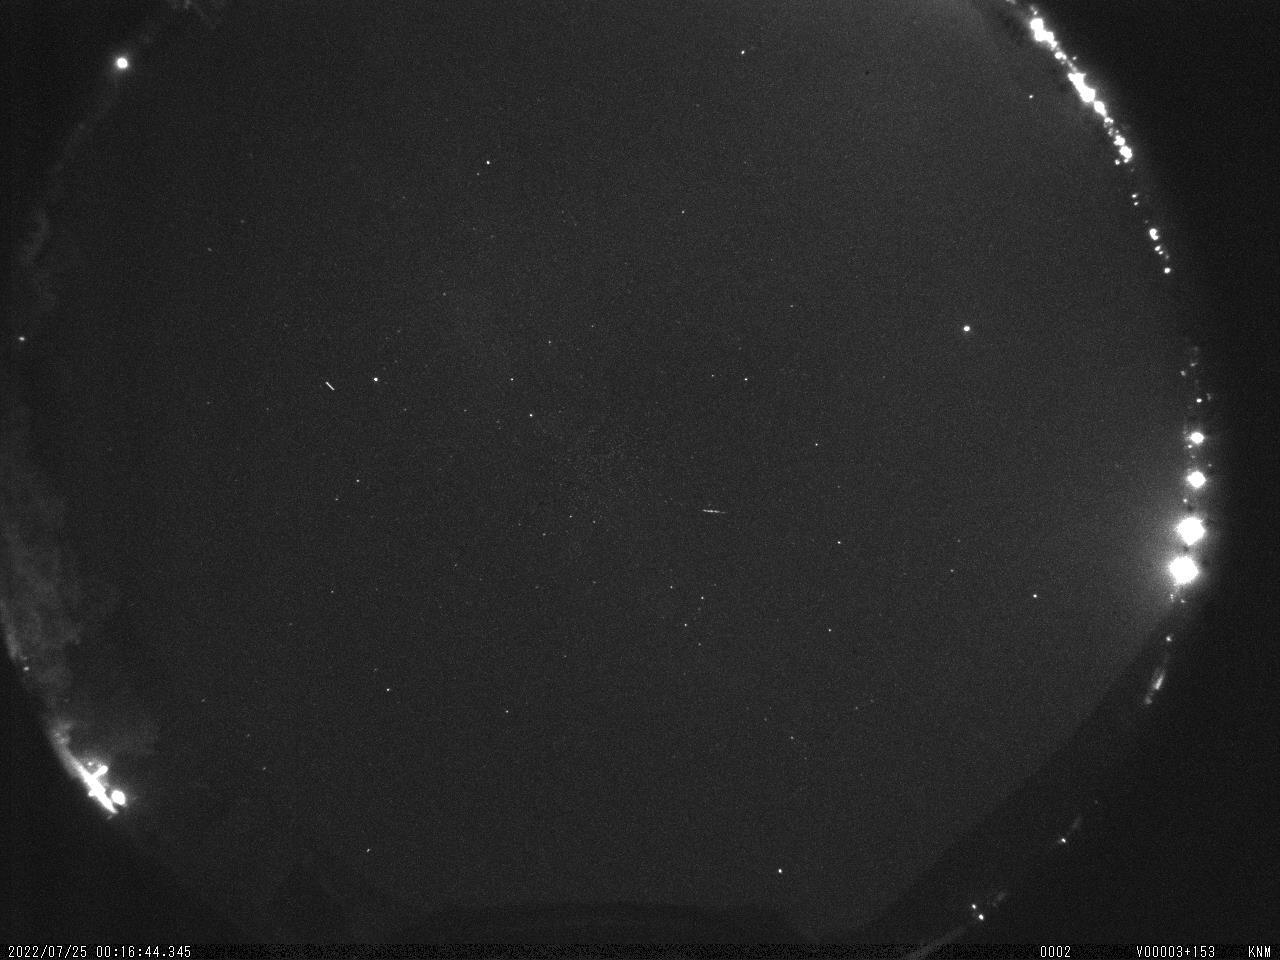Meteor: (698, 504, 730, 520)
